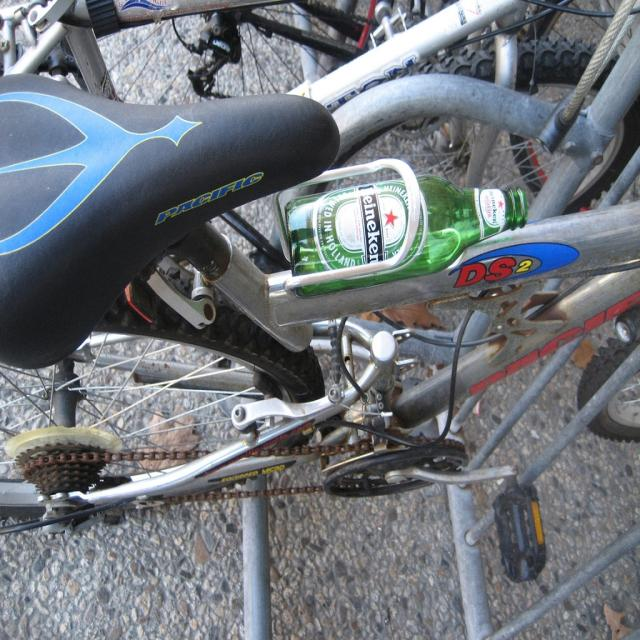heineken: (313, 181, 410, 271)
